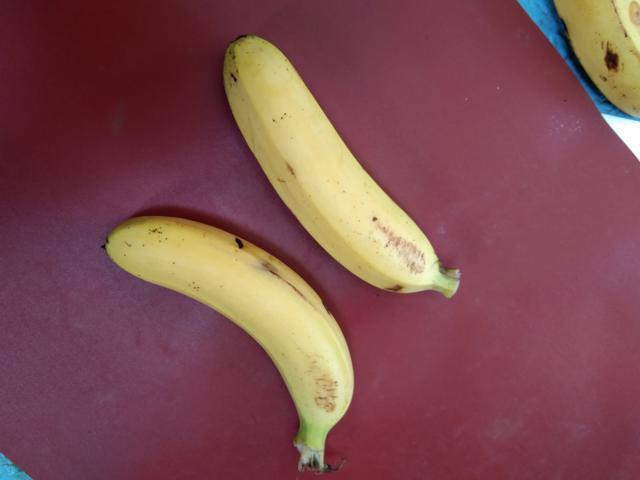freshripe: (219, 25, 445, 297)
ripe: (100, 212, 361, 462)
